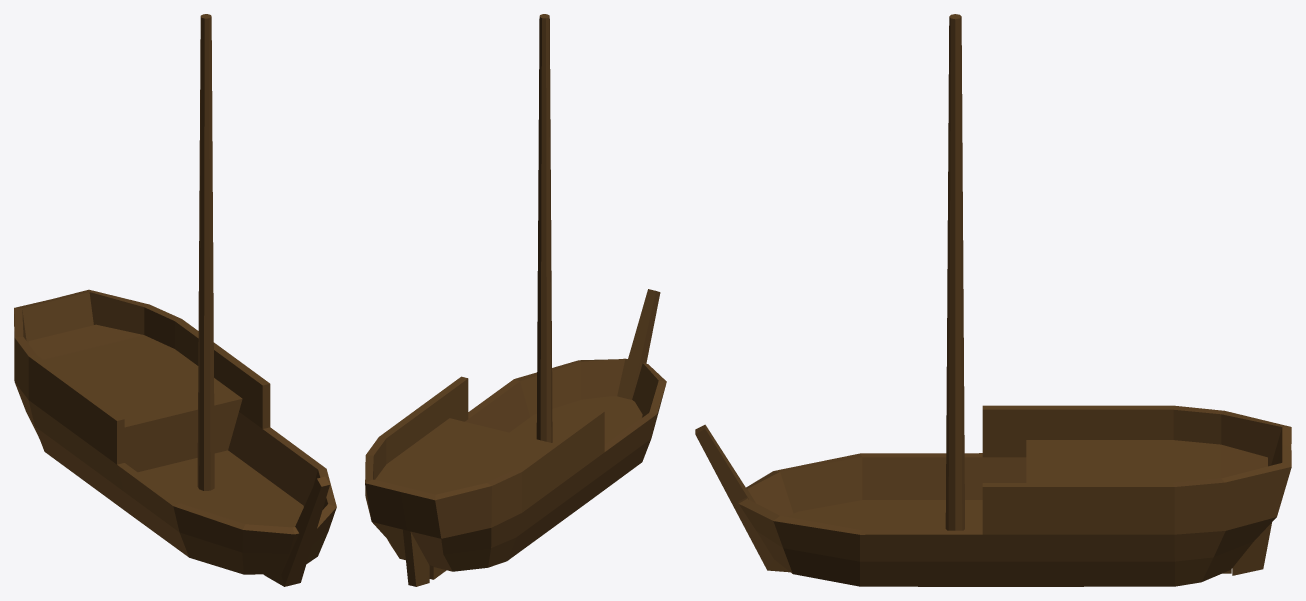
File: BoatCog.fbx
3 renders of one model, left to right at view 1: azimuth 30°, elevation 25°; view 2: azimuth 150°, elevation 25°; view 3: azimuth 270°, elevation 25°, orthographic. The views are drawn at different scales.
Visible parts, largest first — view 1: Boat; view 2: Boat, Rudder; view 3: Boat, Rudder.
Part boxes in pixels (bbox=[...]): Boat: bbox=[14, 14, 336, 586]; Boat: bbox=[365, 14, 666, 579]; Rudder: bbox=[403, 529, 429, 586]; Boat: bbox=[695, 14, 1291, 586]; Rudder: bbox=[1232, 522, 1271, 575].
Size of the model in its own units: 666 by 2126 by 2064.
